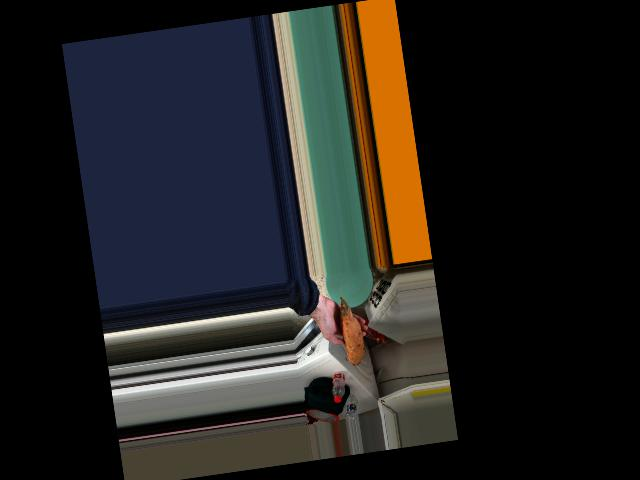sweet_potato: (335, 297, 366, 367)
